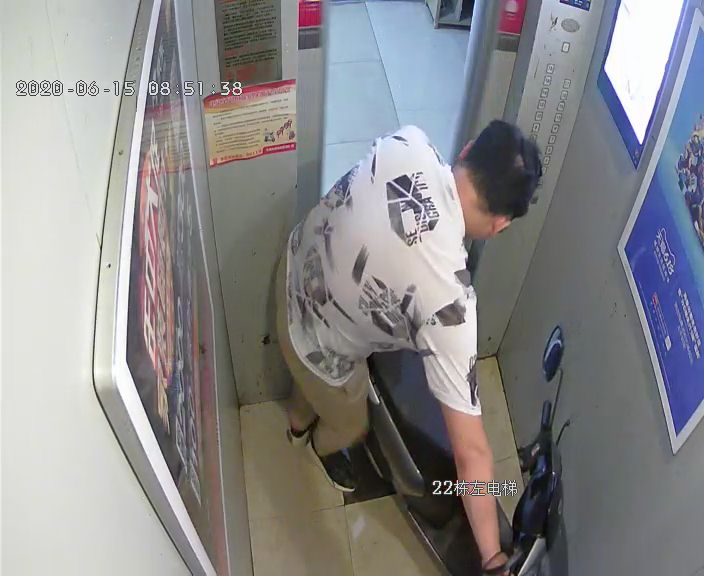Electric-bicycle: (367, 325, 574, 576)
